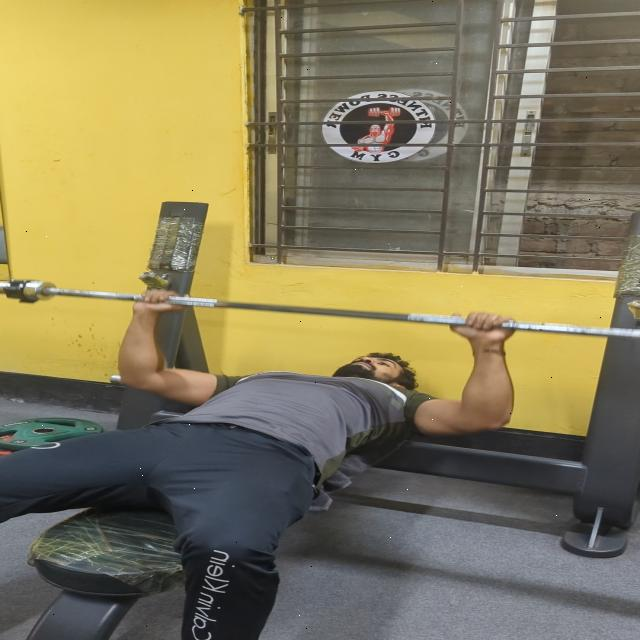Normal_BrenchPress: (0, 278, 585, 640)
